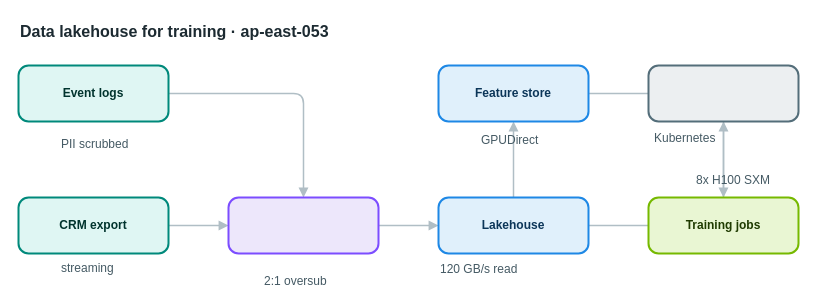
This 816x306 diagram has some shape labels left out. The shapes that lost their labels are listed below. From the top down, each one's centre as x and y in pixels, then its label:
At [723,93]: "Dashboards".
At [303,225]: "Stream bus".
